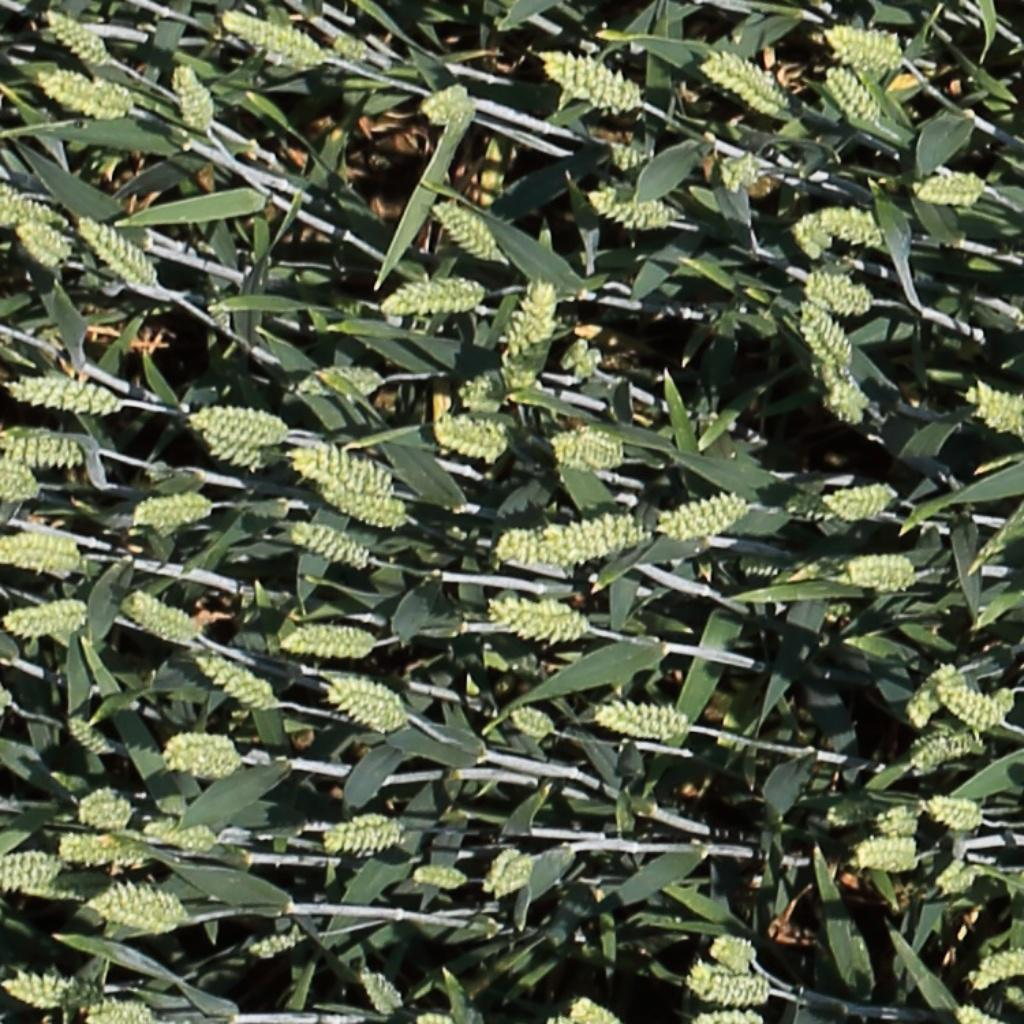0-0: (488, 273, 558, 383), (76, 212, 164, 298), (693, 47, 796, 120), (317, 668, 416, 743), (364, 271, 501, 324), (0, 368, 128, 423), (221, 10, 337, 69), (534, 513, 647, 573), (655, 489, 756, 555), (587, 698, 705, 749), (544, 413, 634, 479), (0, 526, 91, 590), (492, 523, 589, 583), (772, 211, 893, 258), (822, 546, 925, 600), (543, 53, 644, 107), (51, 829, 157, 880), (809, 484, 909, 538), (83, 880, 178, 931), (682, 956, 775, 1008), (294, 446, 393, 494), (270, 620, 380, 663), (588, 189, 676, 240), (908, 164, 996, 215), (800, 294, 858, 370), (195, 652, 275, 706), (905, 721, 985, 775), (434, 197, 502, 260), (3, 972, 105, 1014), (824, 58, 886, 126), (320, 814, 411, 860), (36, 69, 129, 114), (0, 597, 93, 642), (906, 659, 962, 733), (314, 480, 405, 525), (934, 677, 1011, 729), (283, 369, 398, 402), (444, 375, 554, 409), (286, 522, 370, 566), (842, 830, 924, 875), (170, 58, 217, 135), (0, 430, 90, 470), (45, 9, 109, 65), (125, 593, 200, 640), (0, 847, 68, 897), (491, 603, 588, 638), (187, 408, 286, 441), (916, 792, 988, 837), (195, 424, 264, 469), (71, 786, 141, 830), (963, 944, 1024, 992), (140, 818, 219, 855), (544, 991, 632, 1024), (815, 379, 880, 422), (13, 217, 69, 266), (827, 27, 905, 62), (965, 385, 1022, 432), (805, 274, 875, 312), (357, 965, 405, 1019), (435, 419, 507, 454), (479, 846, 524, 901), (488, 851, 536, 901), (0, 461, 52, 507), (75, 998, 165, 1024), (559, 335, 607, 383), (64, 715, 114, 759), (709, 155, 765, 194), (708, 934, 766, 969), (0, 192, 62, 223), (131, 501, 211, 522), (421, 87, 471, 117), (247, 932, 304, 958), (687, 1008, 773, 1024), (510, 709, 557, 737), (952, 1002, 1009, 1024), (412, 869, 469, 888), (0, 677, 13, 715)
